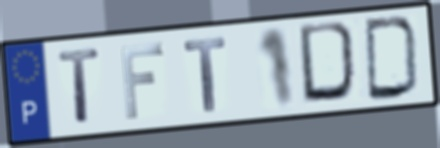1: (255, 24, 298, 112)
D: (296, 19, 364, 106), (362, 15, 423, 103)
F: (118, 41, 167, 122)
T: (180, 34, 229, 115), (56, 46, 104, 127)
